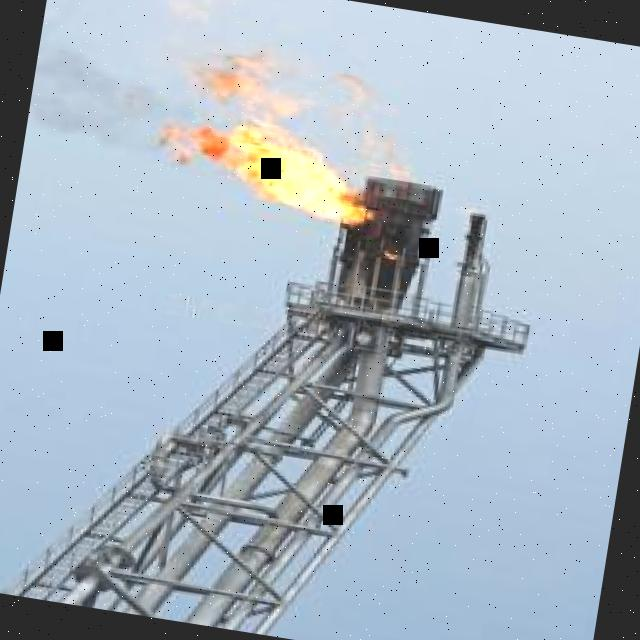fire: (198, 127, 373, 229)
smoke: (34, 25, 442, 194)
